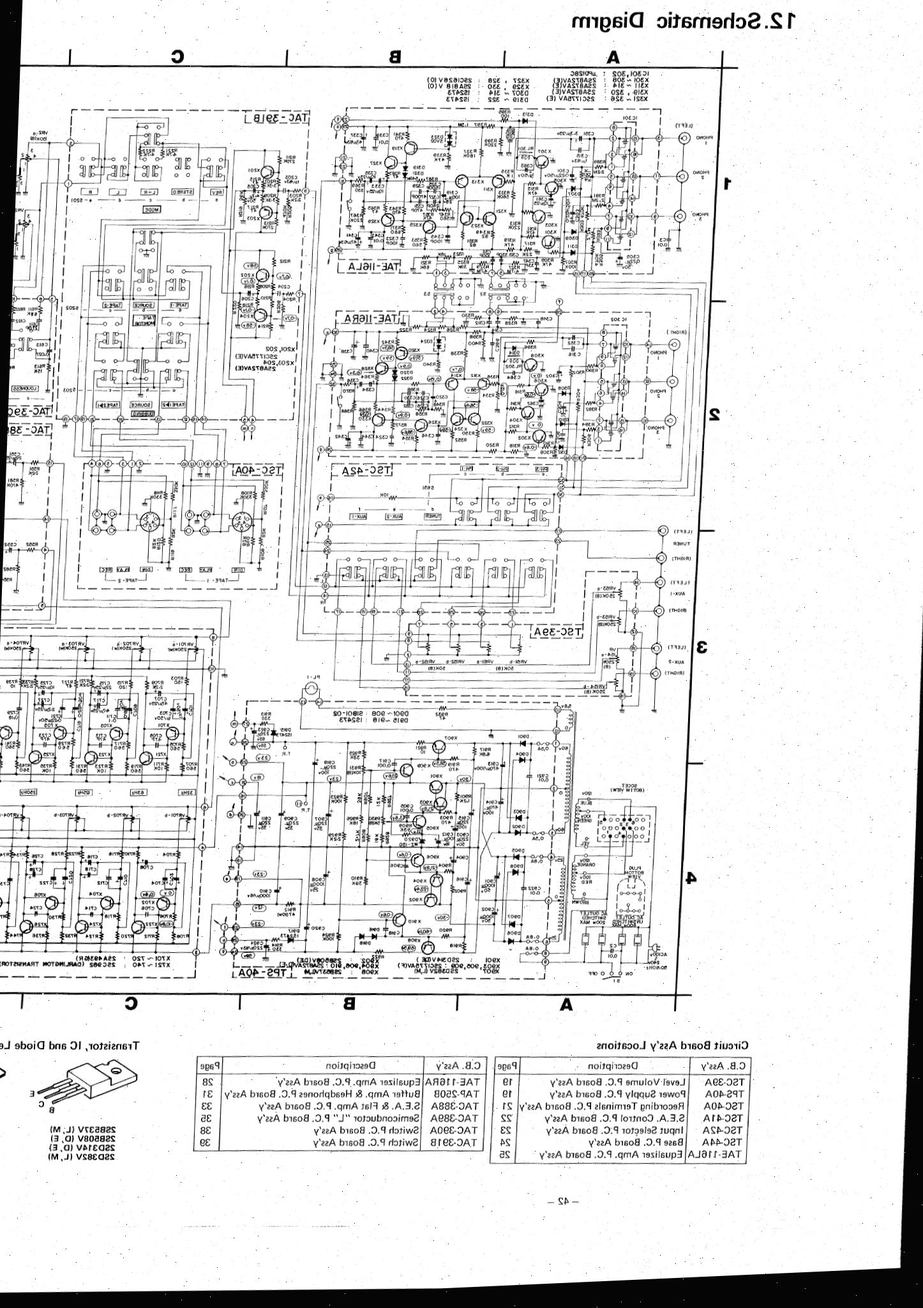compo_name: (341, 307, 400, 327), (530, 622, 583, 640), (341, 258, 400, 274), (606, 775, 651, 794), (233, 461, 286, 476), (609, 911, 645, 933), (575, 908, 610, 928), (233, 347, 279, 362), (232, 363, 278, 375), (101, 807, 130, 822), (573, 855, 601, 870), (202, 573, 230, 588), (131, 313, 157, 328), (572, 809, 593, 827), (0, 804, 22, 821), (580, 678, 606, 692), (263, 343, 296, 354), (555, 125, 579, 140), (645, 946, 672, 959), (649, 346, 669, 363), (49, 809, 75, 822), (574, 873, 598, 887), (645, 423, 666, 439), (340, 386, 356, 407), (128, 781, 149, 797), (259, 358, 296, 367), (594, 580, 619, 593), (115, 636, 142, 648), (443, 655, 466, 669), (60, 637, 88, 648), (417, 477, 436, 493), (121, 845, 141, 860), (574, 796, 597, 809), (173, 785, 196, 798), (358, 825, 371, 848), (158, 848, 181, 861), (648, 386, 669, 400), (276, 253, 297, 267), (619, 110, 641, 123), (475, 656, 497, 669), (507, 654, 530, 666), (664, 324, 687, 336), (422, 509, 445, 521), (2, 930, 25, 942), (594, 610, 619, 621), (16, 785, 37, 798), (168, 186, 195, 196), (100, 299, 124, 310), (348, 509, 368, 522), (161, 809, 187, 819), (426, 413, 444, 427), (393, 374, 414, 386), (170, 638, 195, 648), (565, 187, 584, 200), (411, 407, 430, 420), (130, 299, 157, 308), (360, 788, 372, 808), (395, 323, 415, 335), (61, 301, 81, 313), (237, 532, 249, 552), (115, 576, 139, 586), (538, 253, 556, 266), (577, 835, 595, 848), (579, 416, 597, 429), (167, 547, 180, 565), (129, 410, 155, 419), (401, 934, 422, 945), (454, 789, 475, 800), (146, 877, 167, 888), (522, 883, 545, 893), (403, 894, 426, 904), (128, 399, 151, 409), (28, 929, 51, 939), (387, 860, 406, 872), (384, 509, 403, 521), (382, 828, 394, 847), (414, 760, 433, 772), (160, 400, 185, 409), (593, 154, 609, 168), (309, 921, 326, 934), (415, 656, 435, 667), (282, 171, 302, 182), (35, 877, 55, 888), (82, 889, 104, 899), (82, 929, 102, 940), (75, 785, 95, 796), (419, 323, 437, 335), (442, 323, 460, 335), (86, 919, 104, 931), (388, 143, 406, 155), (183, 703, 197, 718), (524, 183, 543, 194), (255, 884, 274, 895), (374, 404, 393, 415), (140, 930, 159, 941), (367, 156, 383, 169), (363, 343, 379, 356), (372, 430, 389, 442), (338, 343, 355, 355), (509, 123, 519, 143), (408, 191, 428, 201), (568, 897, 593, 905), (403, 916, 423, 926), (608, 316, 628, 326), (94, 401, 119, 409), (65, 867, 75, 887), (105, 187, 125, 197), (5, 639, 30, 647), (36, 678, 56, 688), (531, 147, 553, 156), (350, 179, 368, 190), (311, 812, 329, 823), (389, 418, 407, 429), (343, 376, 361, 387), (405, 345, 423, 356), (245, 165, 263, 176), (141, 204, 163, 213), (31, 889, 49, 900), (351, 827, 362, 845), (521, 105, 535, 119), (366, 215, 382, 227), (505, 926, 521, 938), (423, 357, 439, 369), (379, 334, 395, 346), (69, 196, 85, 208), (259, 501, 271, 517), (169, 499, 177, 523), (12, 847, 28, 859), (81, 902, 97, 914), (430, 150, 449, 160), (466, 177, 485, 187), (593, 226, 603, 245), (508, 821, 527, 831), (409, 876, 428, 886), (412, 743, 431, 753), (540, 371, 559, 381), (505, 414, 524, 424), (450, 435, 469, 445), (4, 707, 23, 717), (428, 130, 445, 141), (513, 748, 530, 759), (478, 904, 495, 915), (492, 335, 503, 352), (584, 365, 601, 376), (173, 929, 190, 940), (94, 878, 111, 889), (207, 186, 224, 197), (24, 538, 41, 549), (426, 852, 440, 865), (361, 167, 379, 177), (368, 181, 386, 191), (591, 191, 606, 203), (494, 188, 512, 198), (455, 257, 473, 267), (578, 787, 596, 797), (510, 845, 528, 855), (436, 924, 454, 934), (453, 813, 473, 822), (514, 432, 532, 442), (431, 392, 451, 401), (275, 282, 293, 292), (166, 869, 176, 887), (159, 908, 174, 920), (79, 864, 97, 874), (26, 903, 44, 913), (15, 760, 33, 770), (166, 739, 184, 749), (52, 738, 72, 747), (480, 184, 496, 195), (506, 910, 522, 921), (328, 829, 344, 840), (526, 398, 542, 409), (478, 417, 494, 428), (361, 384, 377, 395), (360, 362, 376, 373), (168, 301, 190, 309), (76, 675, 92, 686), (3, 539, 19, 550), (443, 187, 462, 196), (342, 230, 361, 239), (500, 235, 519, 244), (623, 251, 642, 260), (475, 262, 494, 271), (508, 861, 527, 870), (281, 813, 300, 822), (236, 271, 255, 280), (60, 931, 79, 940), (397, 801, 416, 810), (561, 257, 578, 267), (484, 758, 501, 768), (383, 793, 393, 810), (287, 191, 304, 201), (142, 918, 159, 928), (101, 910, 118, 920), (17, 675, 34, 685), (74, 718, 84, 735), (151, 694, 168, 704), (89, 696, 106, 706), (418, 797, 435, 807), (357, 371, 378, 379), (258, 279, 272, 291), (172, 478, 184, 492), (61, 383, 75, 395), (521, 238, 536, 249), (367, 812, 382, 823), (481, 391, 496, 402), (84, 851, 99, 862), (495, 107, 513, 116), (553, 166, 571, 175), (597, 252, 606, 270), (477, 744, 495, 753), (319, 929, 337, 938), (459, 311, 477, 320), (403, 385, 421, 394), (398, 368, 416, 377), (401, 394, 419, 403), (139, 145, 157, 154), (148, 676, 166, 685), (35, 731, 53, 740), (356, 938, 374, 947), (514, 144, 534, 152), (497, 167, 517, 175), (543, 228, 559, 238), (387, 202, 403, 212), (471, 229, 491, 237), (520, 255, 536, 265), (454, 875, 470, 885), (402, 835, 422, 843), (248, 937, 264, 947), (529, 351, 545, 361), (573, 386, 583, 402), (500, 319, 520, 327), (460, 429, 476, 439), (417, 432, 437, 440), (238, 293, 254, 303), (236, 312, 256, 320), (258, 546, 268, 562), (262, 476, 270, 496), (98, 721, 114, 731), (93, 761, 109, 771), (150, 759, 166, 769), (585, 967, 597, 980), (345, 811, 358, 823), (427, 192, 441, 203), (455, 853, 469, 864), (444, 732, 458, 743), (449, 349, 463, 360), (47, 911, 61, 922), (482, 135, 499, 144), (347, 129, 364, 138), (424, 174, 441, 183), (409, 181, 426, 190), (468, 221, 485, 230), (456, 829, 473, 838), (483, 798, 500, 807), (261, 177, 278, 186), (236, 203, 245, 220), (273, 299, 282, 316), (154, 535, 163, 552), (130, 703, 139, 720), (348, 878, 365, 887), (373, 131, 392, 139), (541, 220, 560, 228), (137, 898, 156, 906), (137, 905, 156, 913), (139, 187, 158, 195), (1, 738, 20, 746), (41, 720, 60, 728), (445, 942, 464, 950), (451, 248, 466, 258), (505, 348, 520, 358), (554, 398, 564, 413), (541, 438, 556, 448), (486, 371, 501, 381), (450, 422, 465, 432), (244, 213, 259, 223), (473, 120, 489, 129), (409, 168, 425, 177), (572, 152, 590, 160), (365, 203, 383, 211), (367, 231, 385, 239), (407, 235, 425, 243), (514, 733, 530, 742), (482, 876, 498, 885), (436, 861, 452, 870), (349, 873, 367, 881), (309, 874, 327, 882), (346, 764, 364, 772), (347, 747, 363, 756), (328, 791, 344, 800), (285, 926, 301, 935), (584, 404, 600, 413), (466, 332, 484, 340), (414, 393, 430, 402), (378, 488, 390, 500), (260, 217, 276, 226), (262, 192, 278, 201), (161, 146, 179, 154), (281, 295, 297, 304), (30, 920, 48, 928), (169, 672, 185, 681), (114, 678, 130, 687), (59, 678, 75, 687), (47, 712, 63, 721), (34, 695, 52, 703), (146, 730, 162, 739), (156, 709, 174, 717), (372, 830, 381, 846), (34, 339, 50, 348), (425, 823, 441, 832), (438, 813, 454, 822), (581, 128, 595, 138), (375, 757, 395, 764), (473, 317, 487, 327), (259, 525, 269, 539), (107, 848, 121, 858), (0, 876, 10, 890), (92, 729, 106, 739), (2, 564, 16, 574), (494, 207, 511, 215), (434, 210, 451, 218), (464, 235, 481, 243), (269, 941, 286, 949), (244, 183, 261, 191), (38, 762, 55, 770), (577, 219, 586, 234), (277, 725, 292, 734), (119, 931, 134, 940), (139, 864, 154, 873), (129, 761, 144, 770), (426, 232, 445, 239), (384, 929, 403, 936), (514, 387, 527, 397), (469, 369, 482, 379), (463, 147, 479, 155), (390, 130, 406, 138), (518, 162, 534, 170), (385, 234, 401, 242), (281, 907, 297, 915), (256, 726, 272, 734), (466, 339, 482, 347), (26, 865, 42, 873), (183, 759, 199, 767), (6, 481, 22, 489), (31, 362, 47, 370), (397, 822, 413, 830), (408, 221, 422, 230), (418, 259, 432, 268), (479, 247, 493, 256), (606, 645, 620, 654), (334, 432, 348, 441), (254, 323, 272, 330), (241, 282, 255, 291), (230, 298, 237, 316), (49, 850, 63, 859), (103, 710, 117, 719), (154, 749, 168, 758), (27, 464, 41, 473), (26, 319, 40, 328), (388, 223, 403, 231), (259, 710, 274, 718), (567, 339, 582, 347), (584, 432, 592, 447), (509, 440, 521, 450), (538, 314, 553, 322), (122, 872, 130, 887), (40, 750, 55, 758), (6, 476, 21, 484), (505, 220, 522, 227), (322, 759, 339, 766), (567, 351, 584, 358), (512, 807, 525, 816), (358, 405, 371, 414), (408, 207, 427, 213), (338, 409, 357, 415), (387, 170, 403, 177), (348, 211, 364, 218), (604, 942, 620, 949), (366, 925, 382, 932), (439, 830, 455, 837), (522, 344, 538, 351), (572, 369, 586, 377), (509, 399, 523, 407), (284, 152, 298, 160), (246, 175, 262, 182), (28, 851, 44, 858), (98, 677, 112, 685), (111, 739, 127, 746), (13, 317, 27, 325), (259, 814, 271, 823), (169, 527, 178, 539), (0, 909, 9, 921), (81, 188, 99, 194), (14, 305, 26, 314), (557, 384, 572, 391), (486, 441, 501, 448), (258, 294, 273, 301), (65, 850, 80, 857), (73, 763, 88, 770), (237, 489, 254, 495), (525, 225, 539, 232), (97, 751, 111, 758), (410, 164, 426, 170), (622, 969, 634, 977), (149, 489, 165, 495), (2, 575, 14, 583), (5, 678, 18, 685), (0, 850, 9, 860), (27, 305, 39, 312), (505, 126, 510, 142), (403, 676, 404, 677), (85, 749, 86, 750), (540, 247, 540, 248), (485, 317, 485, 319)
